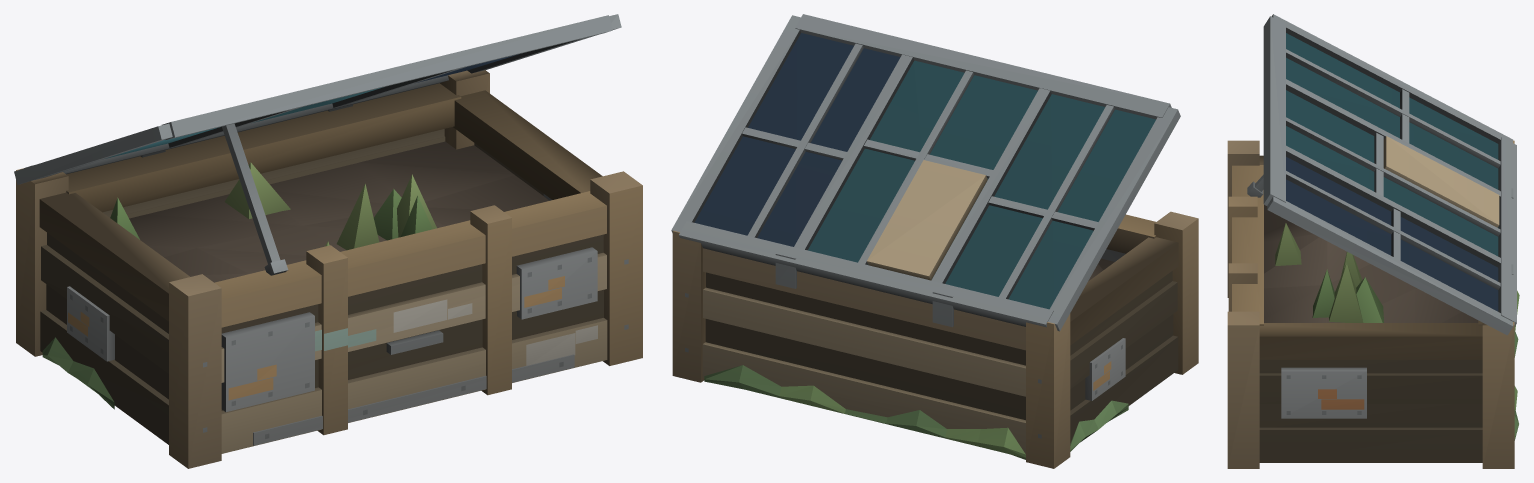
File: frame.glb
3 renders of one model, left to right at view 1: azimuth 30°, elevation 25°; view 2: azimuth 150°, elevation 25°; view 3: azimuth 270°, elevation 25°, orthographic. The views are drawn at different scales.
Visible parts, largest first — view 1: frame; view 2: frame; view 3: frame.
Boxes of the visible parts, box(x1,y1,x2,y2) form: frame: box(14, 14, 642, 468); frame: box(671, 14, 1198, 468); frame: box(1227, 14, 1519, 468).
Size of the model in its own units: 2.07 by 1.4 by 1.36.
